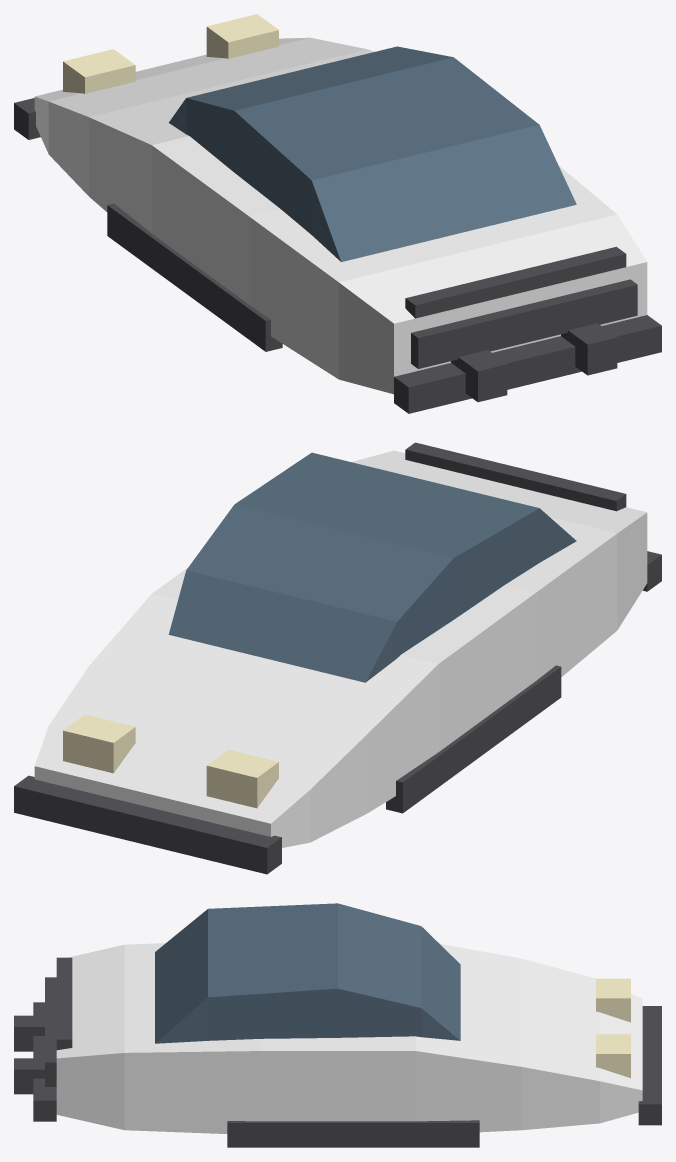
The model's file is E_Hachi_Body.fbx.
3 views of the same model, one above another, from view 1: azimuth 30°, elevation 25°; view 2: azimuth 150°, elevation 25°; view 3: azimuth 270°, elevation 25° (orthographic). The views are drawn at different scales.
Visible parts, largest first — view 1: E_Hachi_Body, E_Hachi_Canopy, E_Hachi_TailPanel, E_Hachi_Bumper_R, E_Hachi_Skirt_L, E_Hachi_Spoiler, E_Hachi_Light_R, E_Hachi_Light_L, E_Hachi_Exhaust_R, E_Hachi_Exhaust_L, E_Hachi_Bumper_F; view 2: E_Hachi_Body, E_Hachi_Canopy, E_Hachi_Bumper_F, E_Hachi_Skirt_L, E_Hachi_Spoiler, E_Hachi_Light_L, E_Hachi_Light_R; view 3: E_Hachi_Body, E_Hachi_Canopy, E_Hachi_Skirt_R, E_Hachi_Bumper_F, E_Hachi_Spoiler, E_Hachi_Bumper_R, E_Hachi_Light_L, E_Hachi_Light_R, E_Hachi_TailPanel, E_Hachi_Exhaust_L, E_Hachi_Exhaust_R.
Part boxes in pixels (x1,y1,x2,y2): E_Hachi_Body: (34, 37, 647, 394); E_Hachi_Canopy: (169, 46, 576, 261); E_Hachi_TailPanel: (411, 279, 637, 368); E_Hachi_Bumper_R: (394, 315, 661, 413); E_Hachi_Skirt_L: (107, 203, 282, 351); E_Hachi_Spoiler: (405, 246, 626, 318); E_Hachi_Light_R: (206, 14, 278, 58); E_Hachi_Light_L: (63, 49, 135, 93); E_Hachi_Exhaust_R: (561, 323, 617, 375); E_Hachi_Exhaust_L: (451, 350, 507, 402); E_Hachi_Bumper_F: (14, 98, 40, 139); E_Hachi_Body: (34, 450, 647, 847); E_Hachi_Canopy: (168, 452, 576, 682); E_Hachi_Bumper_F: (14, 775, 281, 874); E_Hachi_Skirt_L: (386, 665, 561, 813); E_Hachi_Spoiler: (405, 442, 626, 511); E_Hachi_Light_L: (206, 749, 278, 808); E_Hachi_Light_R: (63, 714, 135, 773); E_Hachi_Body: (56, 943, 642, 1133); E_Hachi_Canopy: (155, 903, 460, 1043); E_Hachi_Skirt_R: (227, 1120, 479, 1147); E_Hachi_Bumper_F: (638, 1006, 661, 1125); E_Hachi_Spoiler: (56, 957, 72, 1050); E_Hachi_Bumper_R: (33, 1002, 56, 1121); E_Hachi_Light_L: (596, 978, 630, 1022); E_Hachi_Light_R: (596, 1034, 630, 1078); E_Hachi_TailPanel: (45, 977, 56, 1086); E_Hachi_Exhaust_L: (14, 1015, 44, 1051); E_Hachi_Exhaust_R: (14, 1058, 44, 1094).
Size of the model in its own units: 140 by 82 by 334.
